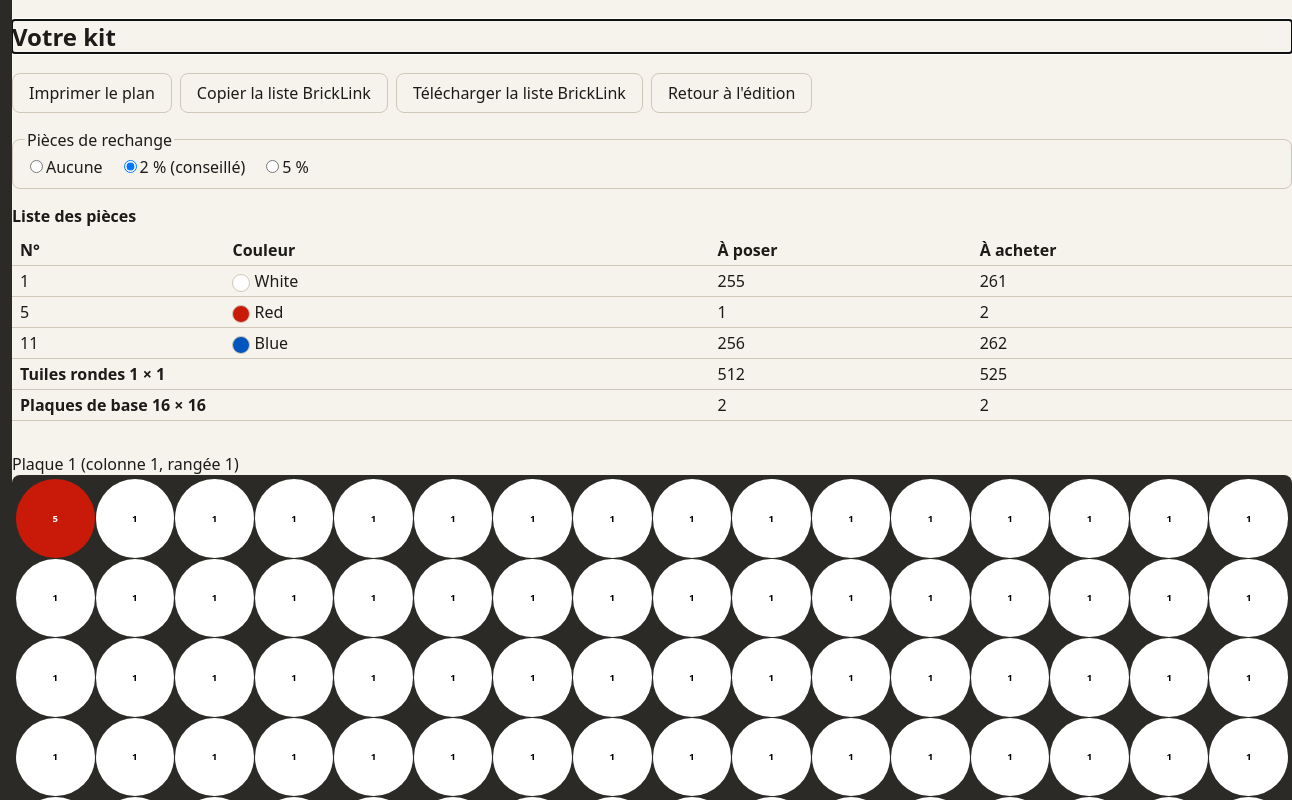
Test: Kit export › tells the buyer to download when the copy is refused
The width and height of the screenshot is (1292, 800).
Click the button "Copier la liste BrickLink" at x=284, y=93, box x1=180 y1=73 x2=388 y2=113
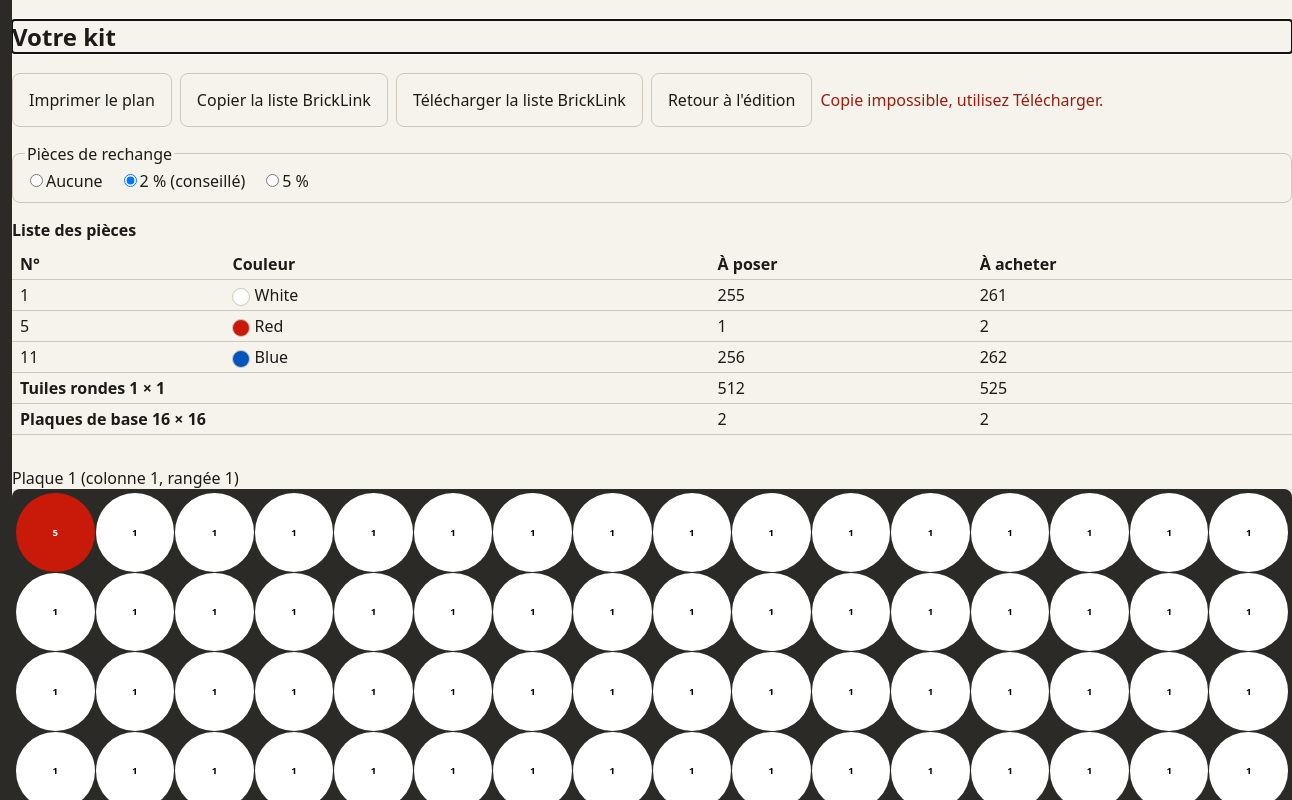
Check: the message reads "Copie impossible, utilisez Télécharger.", box x1=820 y1=89 x2=1103 y2=111
